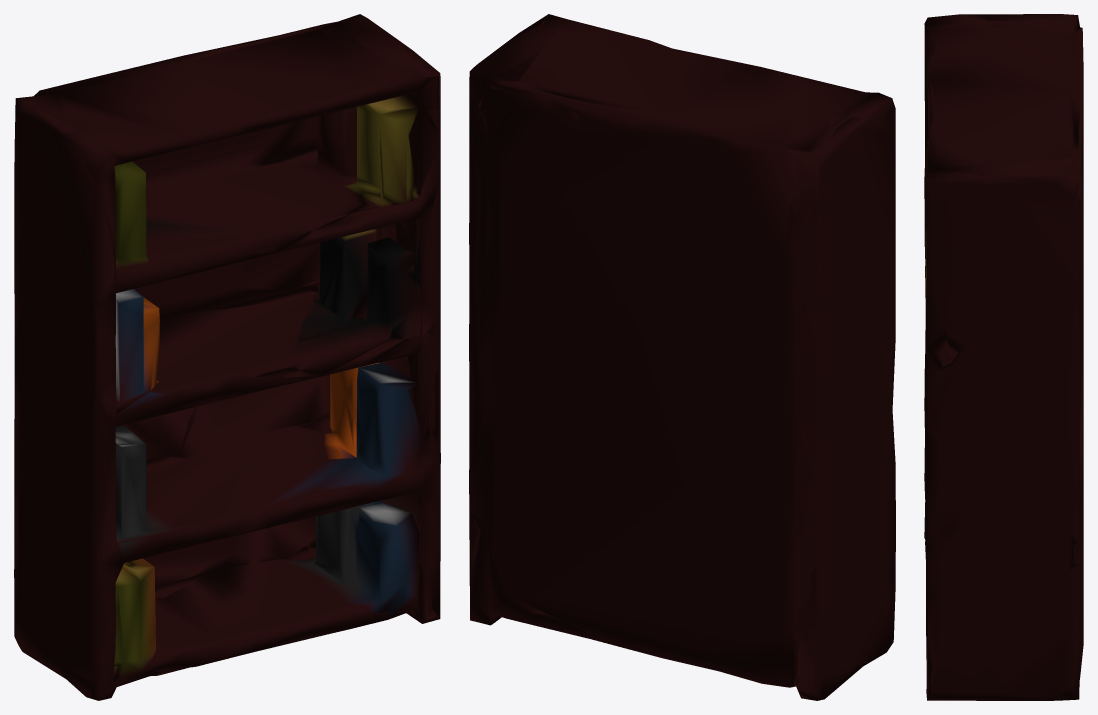
Rendered from gen3d-bookshelf-lod0.glb.
The picture shows the model from 3 angles, left to right: view 1: azimuth 30°, elevation 25°; view 2: azimuth 150°, elevation 25°; view 3: azimuth 270°, elevation 25°; orthographic projection. The views are drawn at different scales.
Visible parts, largest first — view 1: part_0; view 2: part_0; view 3: part_0.
Boxes of the visible parts, x1,y1,x2,y2 form: part_0: (14, 14, 440, 700); part_0: (469, 14, 895, 700); part_0: (924, 14, 1083, 700).
Bounding box in the file's own units: 0.6625 × 0.9993 × 0.2735.
